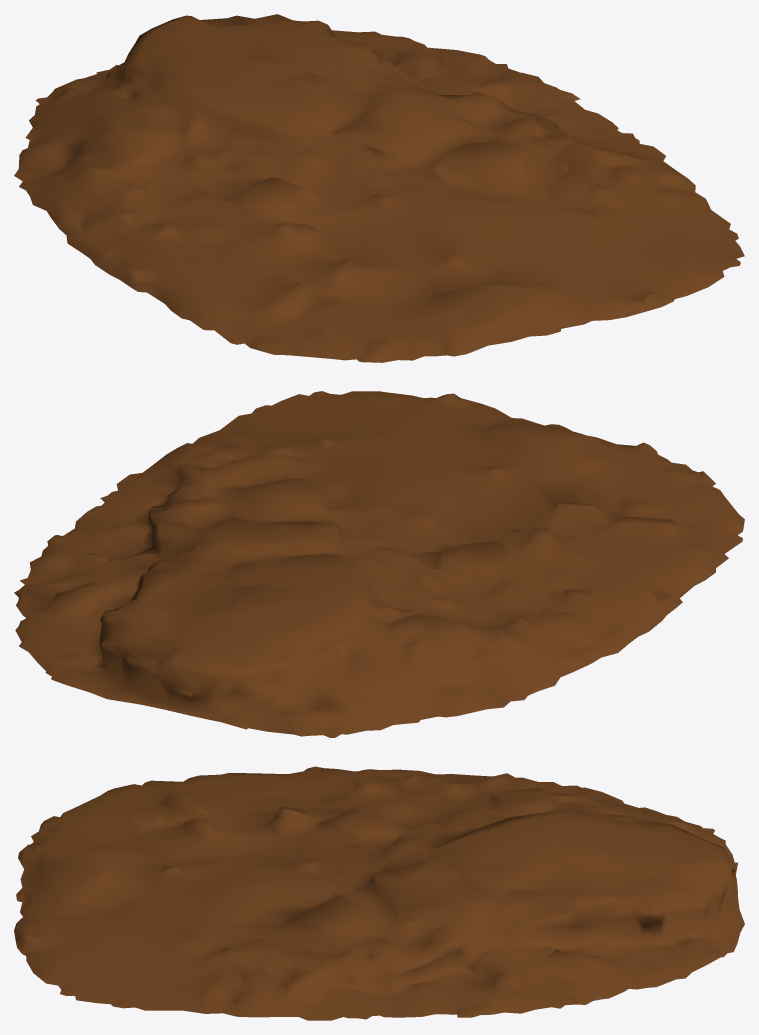
File: MSH_Rocks_Flat_07.FBX
3 renders of one model, top to bottom at view 1: azimuth 30°, elevation 25°; view 2: azimuth 150°, elevation 25°; view 3: azimuth 270°, elevation 25°, orthographic. The views are drawn at different scales.
Visible parts, largest first — view 1: MESH_LOD0; view 2: MESH_LOD0; view 3: MESH_LOD0.
Part boxes in pixels (box(x1,y1,x2,y2)): MESH_LOD0: box(14, 14, 744, 362); MESH_LOD0: box(14, 391, 744, 737); MESH_LOD0: box(14, 766, 744, 1020).
Size of what is drawn, in the model's own units: 85.64 by 7.72 by 106.
